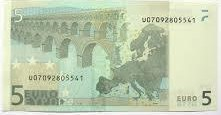euro_banknote: (3, 1, 218, 114)
